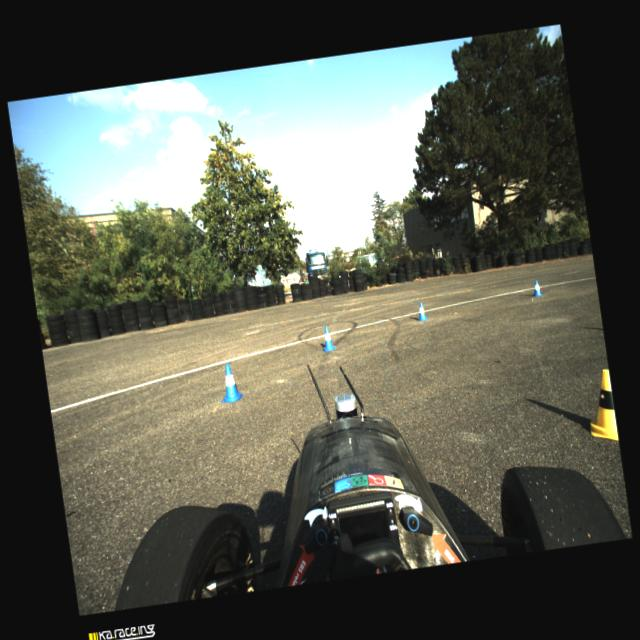blue_cone: (216, 363, 245, 404), (320, 326, 336, 352), (415, 302, 429, 322), (530, 279, 542, 297)
yellow_cone: (583, 370, 619, 444)
